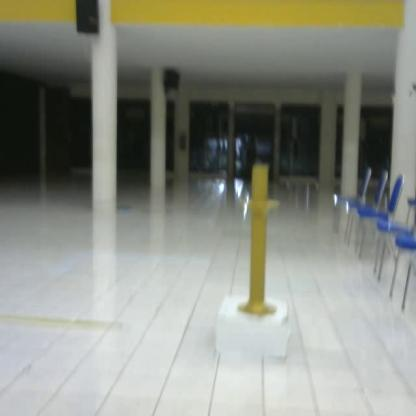pole: (234, 155, 290, 325)
